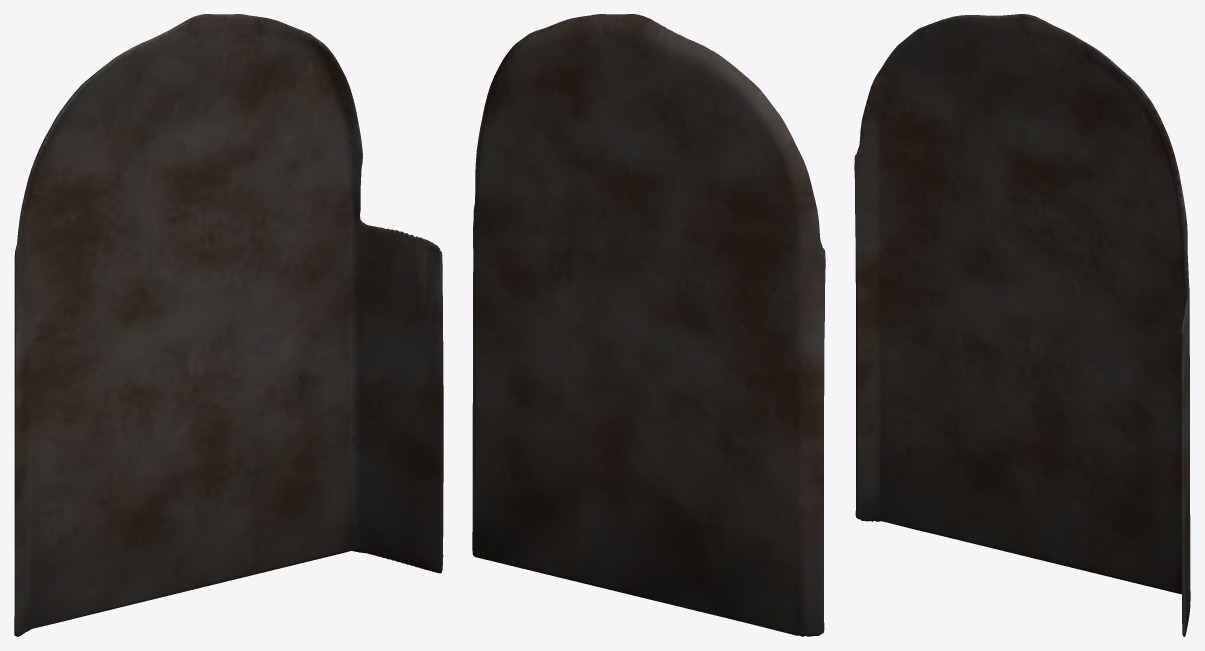
File: weathered-iron-castle-door-v001.glb
3 views of the same model, side by side, from view 1: azimuth 30°, elevation 25°; view 2: azimuth 150°, elevation 25°; view 3: azimuth 330°, elevation 25° (orthographic). The views are drawn at different scales.
Visible parts, largest first — view 1: weathered-iron-castle-door; view 2: weathered-iron-castle-door; view 3: weathered-iron-castle-door.
Boxes of the visible parts, x1,y1,x2,y2 form: weathered-iron-castle-door: (14, 14, 443, 636); weathered-iron-castle-door: (472, 14, 825, 636); weathered-iron-castle-door: (854, 14, 1190, 636).
Size of the model in its own units: 2.06 by 2.94 by 0.45.
Materials: 1 (1 with a texture image).
